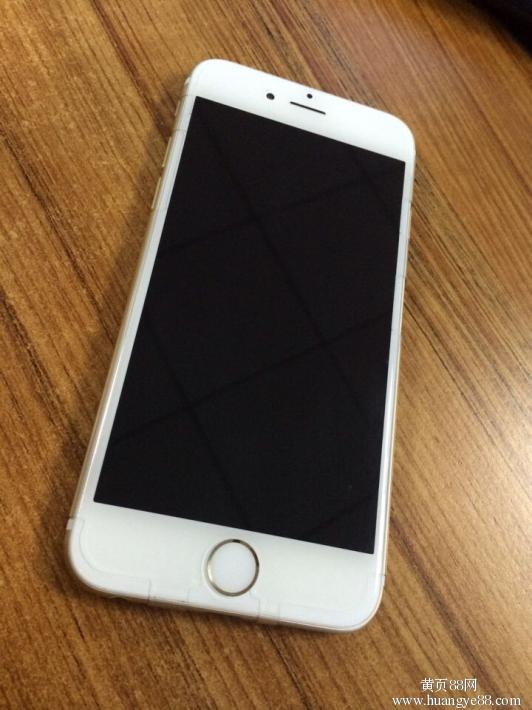phone: (73, 60, 418, 637)
